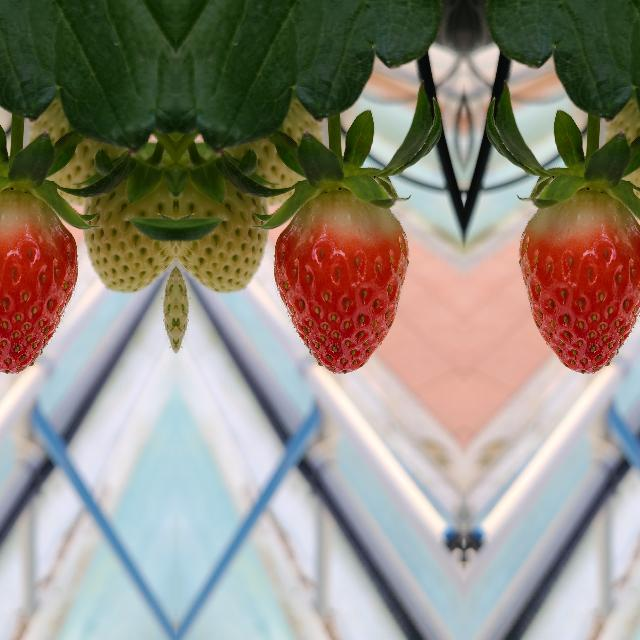Health_100: (274, 192, 408, 372), (518, 191, 640, 372), (0, 191, 76, 372)
Health_25: (174, 164, 264, 294), (86, 164, 176, 294)
